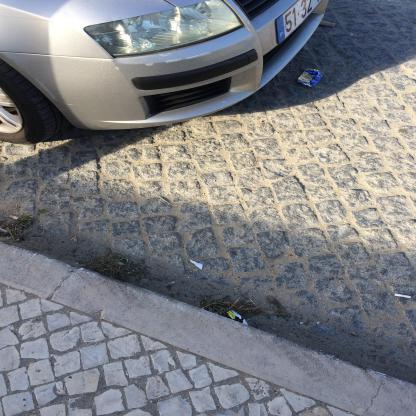metal: (299, 70, 325, 89)
